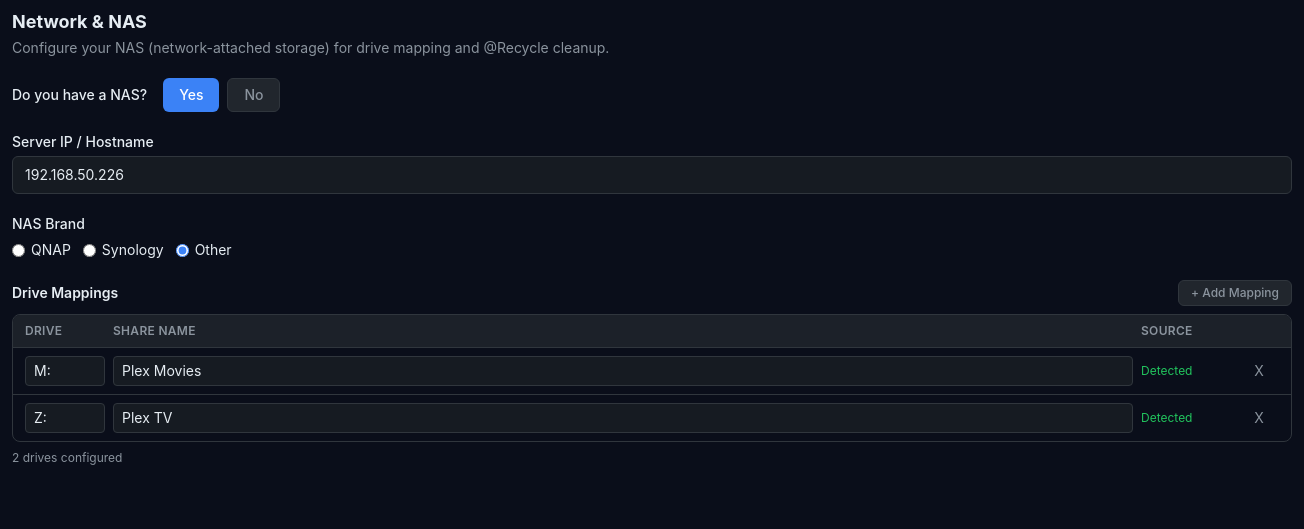
<W3NetworkNas> › adding a manual mapping creates an empty row
The image size is (1304, 529).
Expected: the text "2 drives configured" is shown, [12, 450, 122, 465]
Click the button "+ Add Mapping" at (1235, 293), box [1178, 280, 1292, 306]
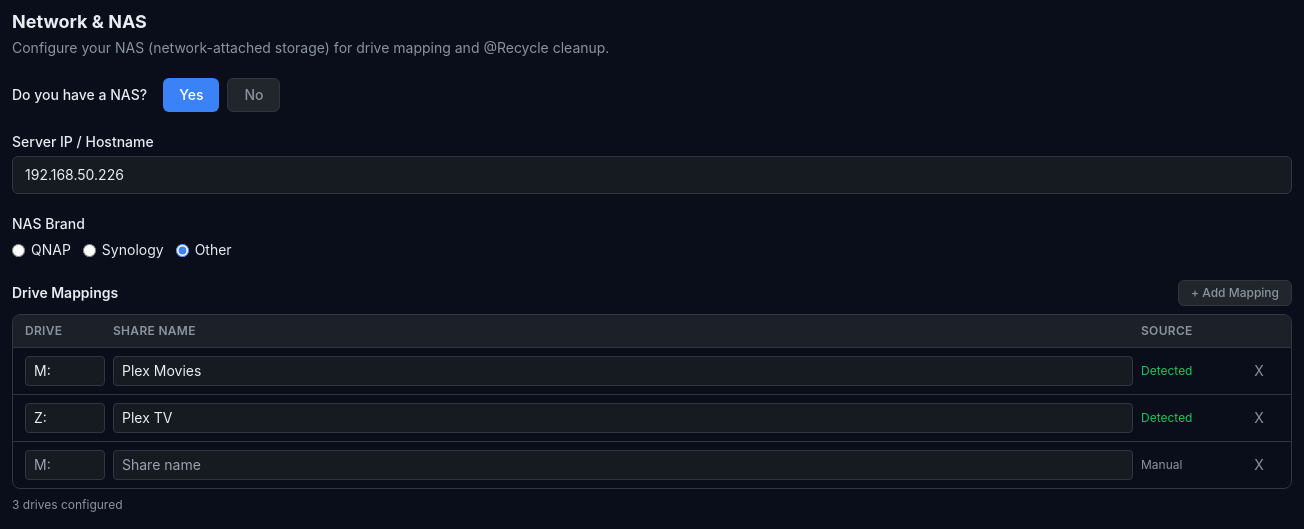
Expected: the text "3 drives configured" is shown, [12, 497, 122, 512]
Expected: the text "Manual" is shown, [1141, 457, 1182, 472]
